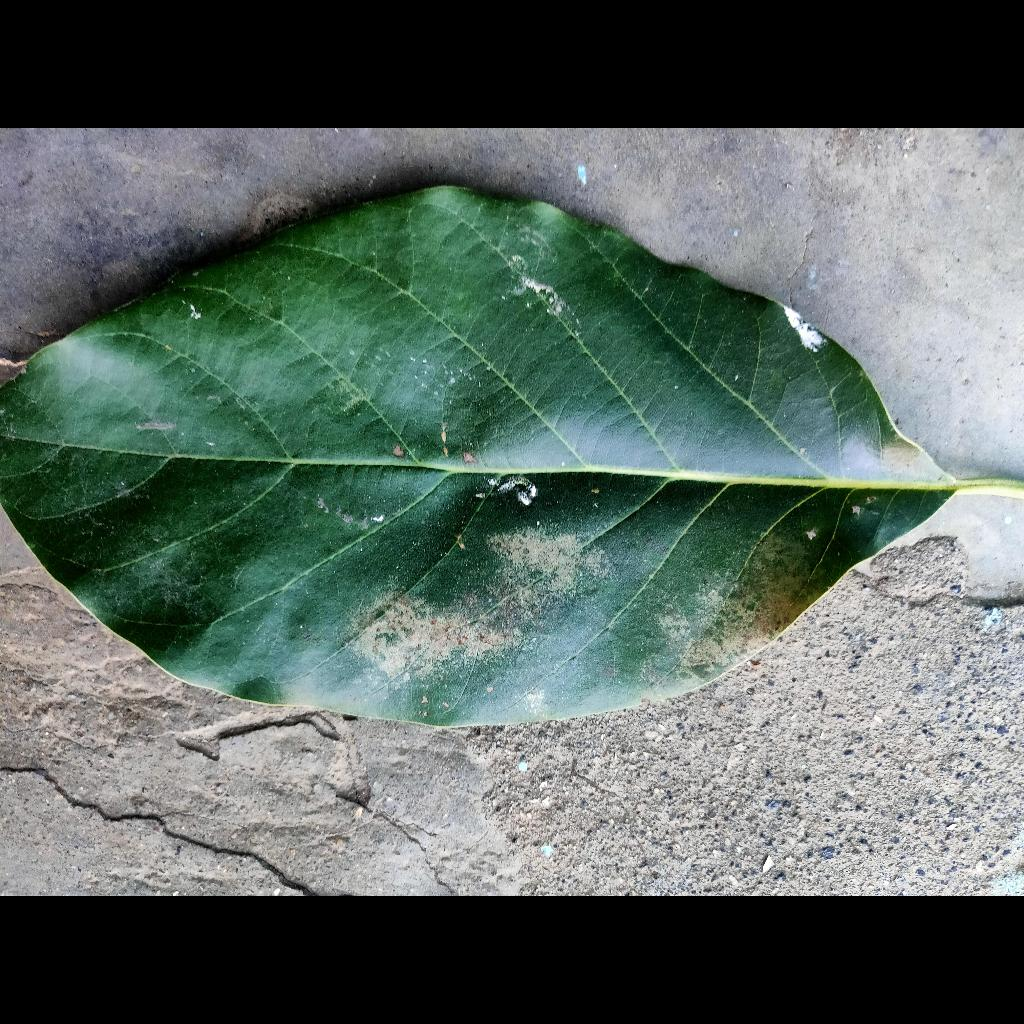persea_mite: (668, 529, 822, 691), (342, 580, 526, 700), (483, 510, 631, 618), (433, 413, 487, 467), (382, 430, 424, 474), (448, 527, 478, 559)
